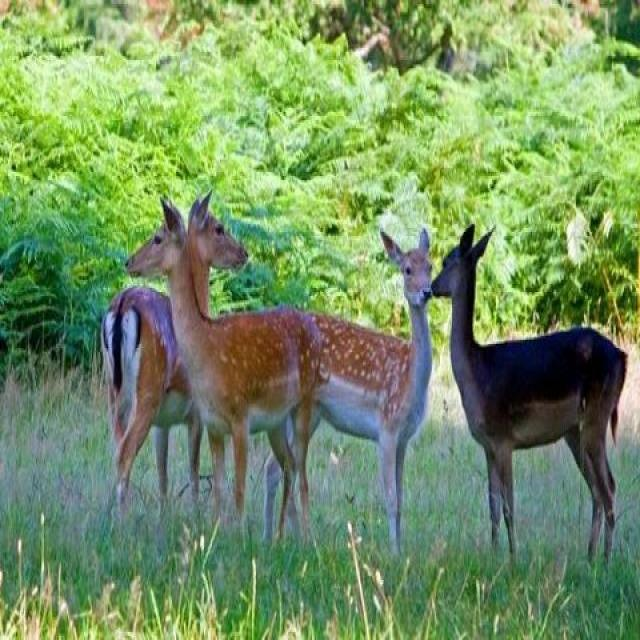deer: (121, 199, 342, 549), (256, 222, 468, 566), (403, 211, 640, 518), (40, 207, 247, 478)
